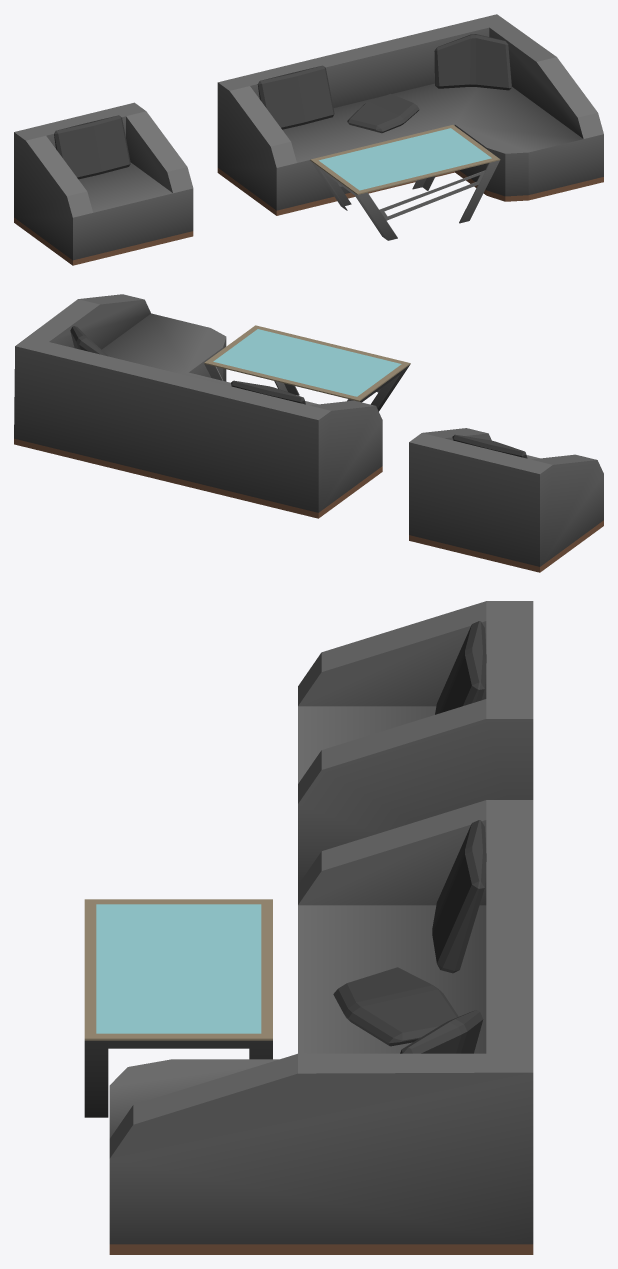
Rendered from sofa.fbx.
The picture shows the model from 3 angles, top to bottom: view 1: azimuth 30°, elevation 25°; view 2: azimuth 150°, elevation 25°; view 3: azimuth 270°, elevation 25°; orthographic projection. The views are drawn at different scales.
Parts seen in each view (by area): view 1: Couch00, Couch01, CouchTable00; view 2: Couch00, Couch01, CouchTable00; view 3: Couch00, Couch01, CouchTable00.
Part boxes in pixels (x1=…): Couch00: x1=217, y1=14, x2=603, y2=215; Couch01: x1=14, y1=102, x2=193, y2=265; CouchTable00: x1=310, y1=125, x2=500, y2=240; Couch00: x1=14, y1=294, x2=382, y2=518; Couch01: x1=409, y1=428, x2=603, y2=572; CouchTable00: x1=204, y1=325, x2=410, y2=411; Couch00: x1=109, y1=800, x2=533, y2=1254; Couch01: x1=298, y1=601, x2=533, y2=884; CouchTable00: x1=84, y1=899, x2=272, y2=1117.
Bounding box in the file's own units: 475 × 89.8 × 191.
